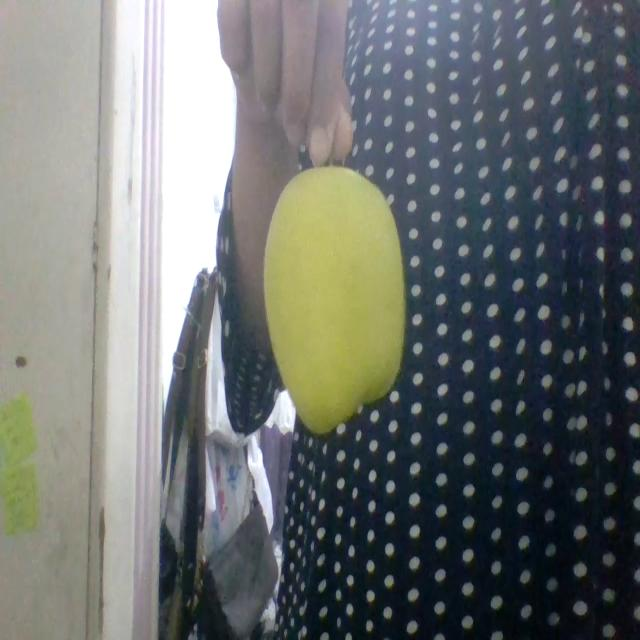50-_ripeness: (262, 165, 404, 434)
